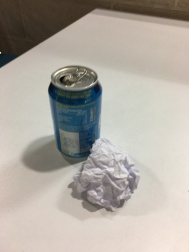can_blue: (42, 61, 108, 163)
paper_white: (74, 137, 153, 227)
